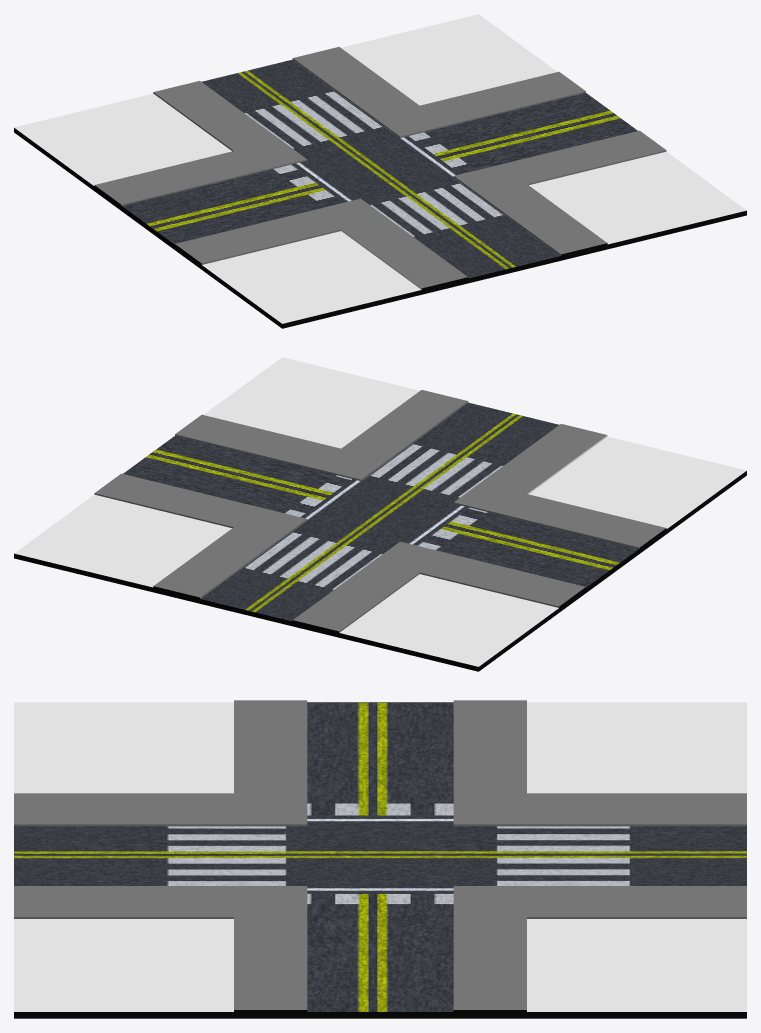
3 renders of one model, top to bottom at view 1: azimuth 30°, elevation 25°; view 2: azimuth 150°, elevation 25°; view 3: azimuth 270°, elevation 25°, orthographic. The views are drawn at different scales.
Parts seen in each view (by area): view 1: pCube1; view 2: pCube1; view 3: pCube1.
Part boxes in pixels (left/top/right/bottom): pCube1: left=14, top=14, right=746, bottom=328; pCube1: left=14, top=357, right=746, bottom=671; pCube1: left=14, top=700, right=746, bottom=1018.
Bounding box in the file's own units: 100 × 1.3 × 100.
1 material, 1 textured.
